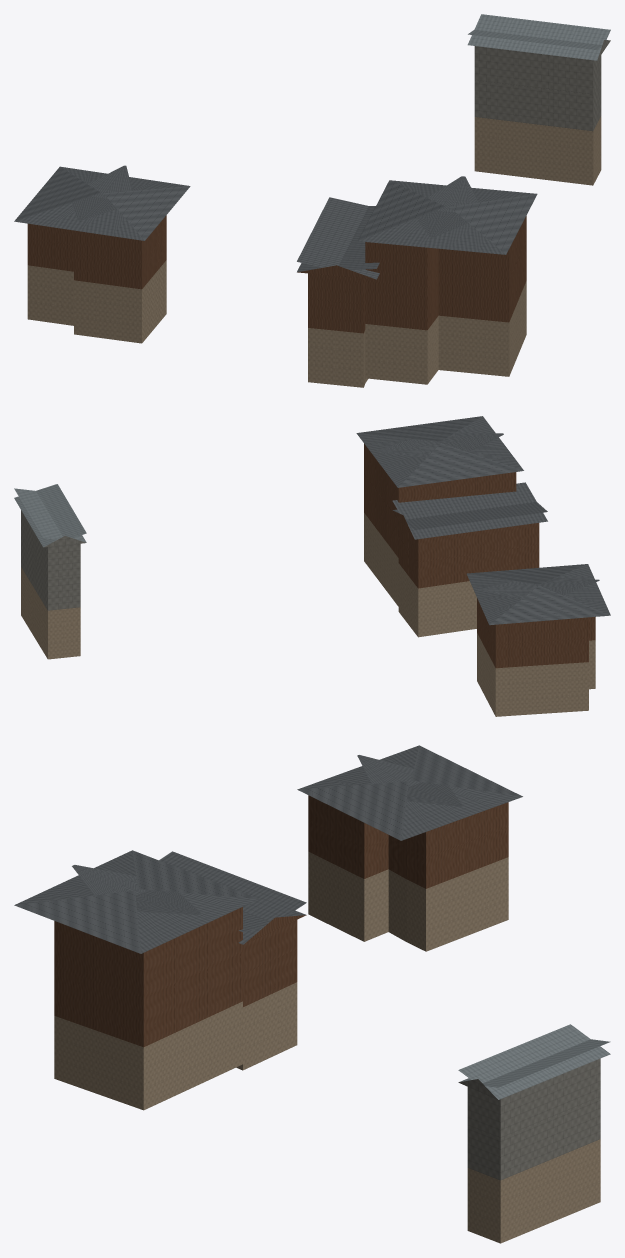
The model's file is bld_c15_37_411.gltf.
The picture shows the model from 3 angles, top to bottom: view 1: azimuth 30°, elevation 25°; view 2: azimuth 150°, elevation 25°; view 3: azimuth 270°, elevation 25°; orthographic projection. The views are drawn at different scales.
Visible parts, largest first — view 1: bld_c15_37_411; view 2: bld_c15_37_411; view 3: bld_c15_37_411.
Part boxes in pixels (left/top/right/bottom): bld_c15_37_411: left=14, top=14, right=610, bottom=387; bld_c15_37_411: left=14, top=416, right=610, bottom=716; bld_c15_37_411: left=14, top=745, right=610, bottom=1243.
Bounding box in the file's own units: 61.98 × 14.6 × 43.77.
Materials: 7 (7 with a texture image).
